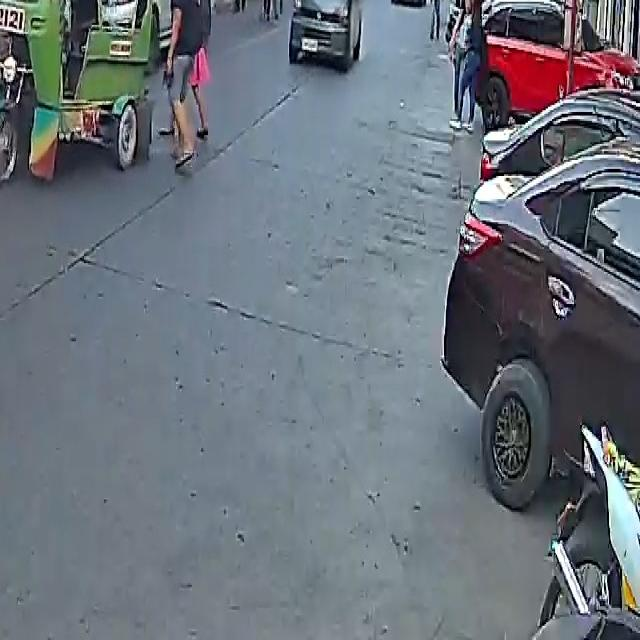car: (444, 61, 640, 539), (459, 0, 640, 130), (290, 0, 373, 69), (391, 0, 426, 4)
